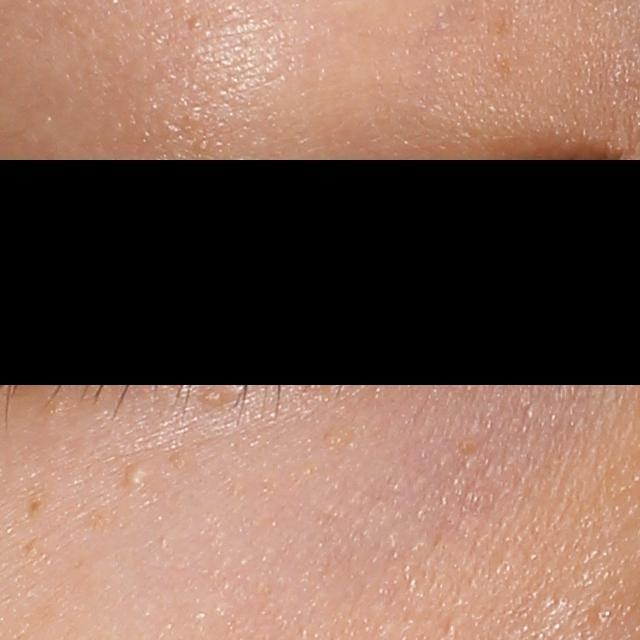melasma: (25, 484, 54, 519), (22, 537, 41, 557)
other: (200, 381, 236, 408)
